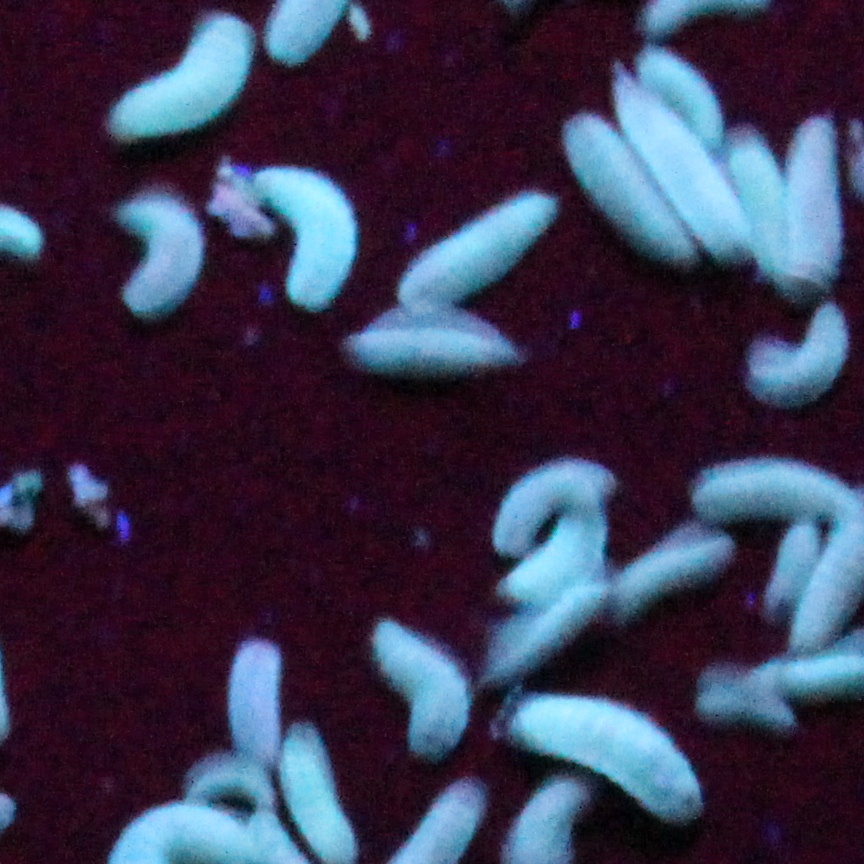larve: (612, 63, 751, 261), (499, 697, 710, 822), (560, 117, 701, 261), (395, 194, 558, 309), (108, 13, 249, 142), (249, 172, 358, 315), (370, 611, 474, 759), (487, 574, 610, 680), (610, 526, 733, 622), (493, 461, 614, 551), (739, 305, 855, 397), (122, 188, 203, 317), (687, 461, 862, 515), (641, 47, 724, 151), (793, 109, 835, 297), (226, 642, 285, 765), (349, 330, 518, 367), (760, 522, 818, 613), (193, 759, 280, 815), (701, 684, 799, 730)
